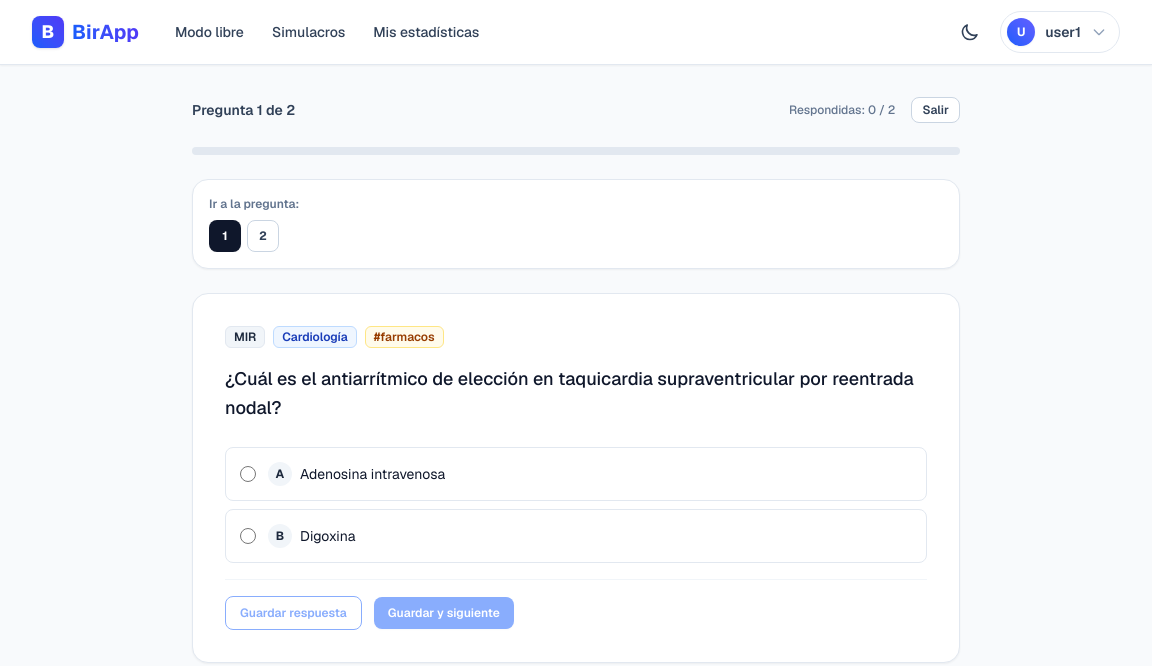
Test: SimulacroAttemptPage (/simulacros/[id]/attempts/[attemptId]) › navigates to another question via question navigator
Note: Click position button '2' in navigator
Click the button "2".
click(263, 236)  # box [247,220,279,252]
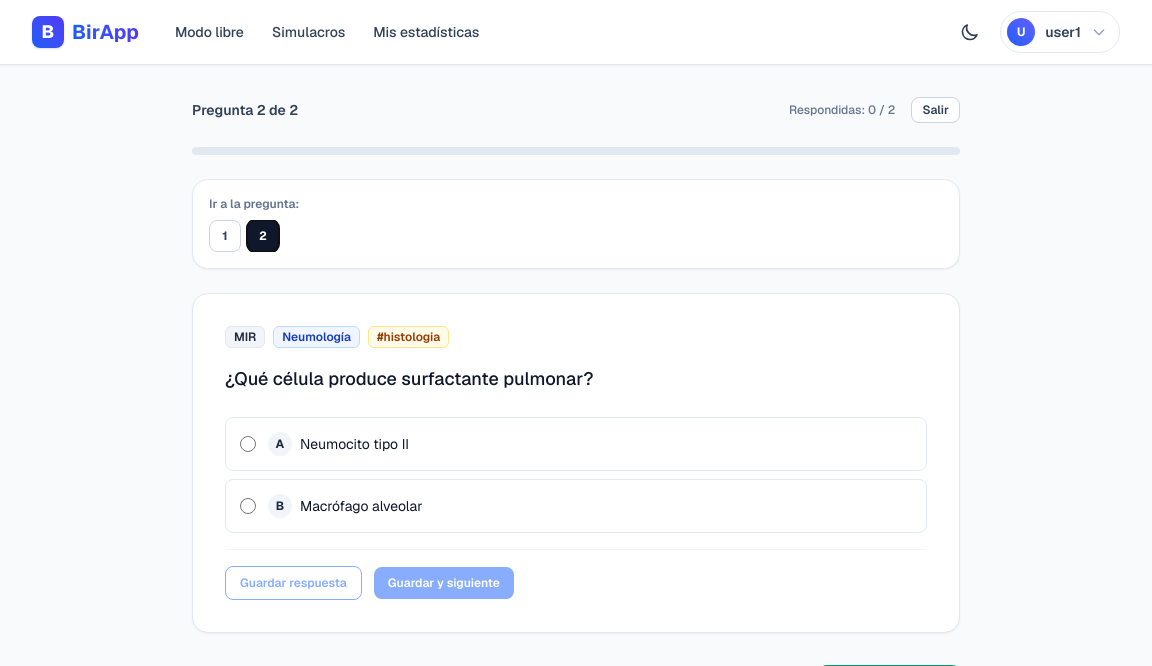
Expected: the text "Pregunta 2 de 2" is shown, [192,100,298,120]
Expected: the text "¿Qué célula produce surfactante pulmonar?" is shown, [225,367,594,390]
